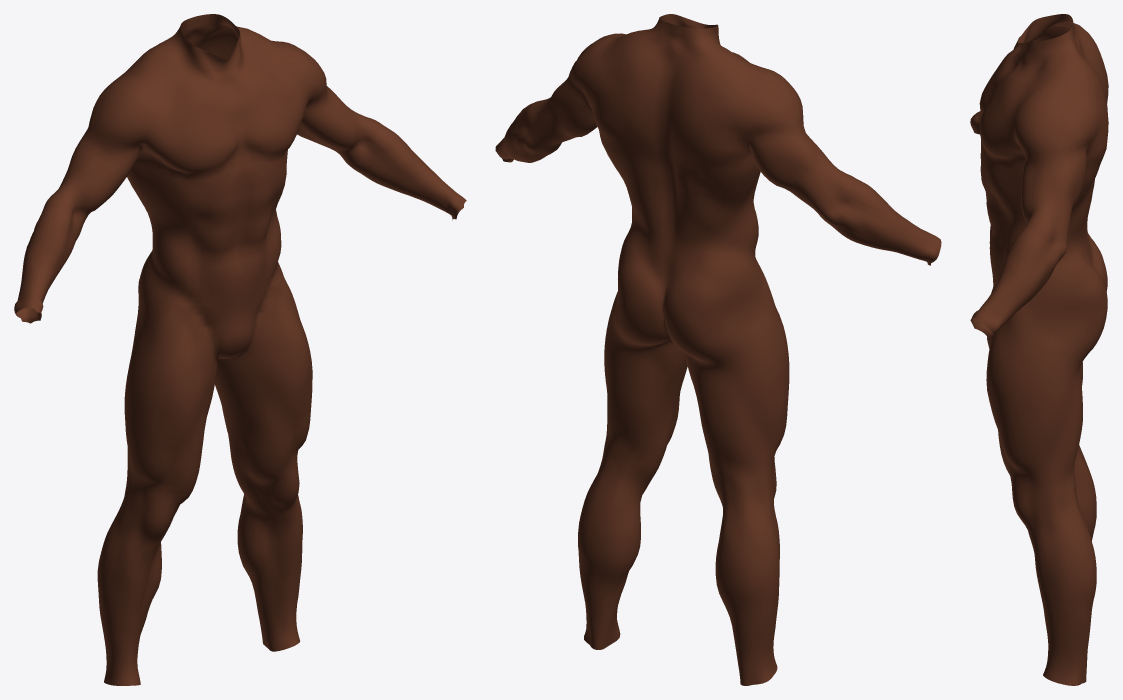
File: grizzly.dae
The picture shows the model from 3 angles, left to right: view 1: azimuth 30°, elevation 25°; view 2: azimuth 150°, elevation 25°; view 3: azimuth 270°, elevation 25°; orthographic projection. The views are drawn at different scales.
Parts seen in each view (by area): view 1: male_Base_mesh; view 2: male_Base_mesh; view 3: male_Base_mesh.
Boxes of the visible parts, box(x1,y1,x2,y2) form: male_Base_mesh: box(14, 14, 466, 685); male_Base_mesh: box(495, 14, 941, 685); male_Base_mesh: box(970, 14, 1108, 685).
Bounding box in the file's own units: 1.04 × 0.29 × 1.44.
